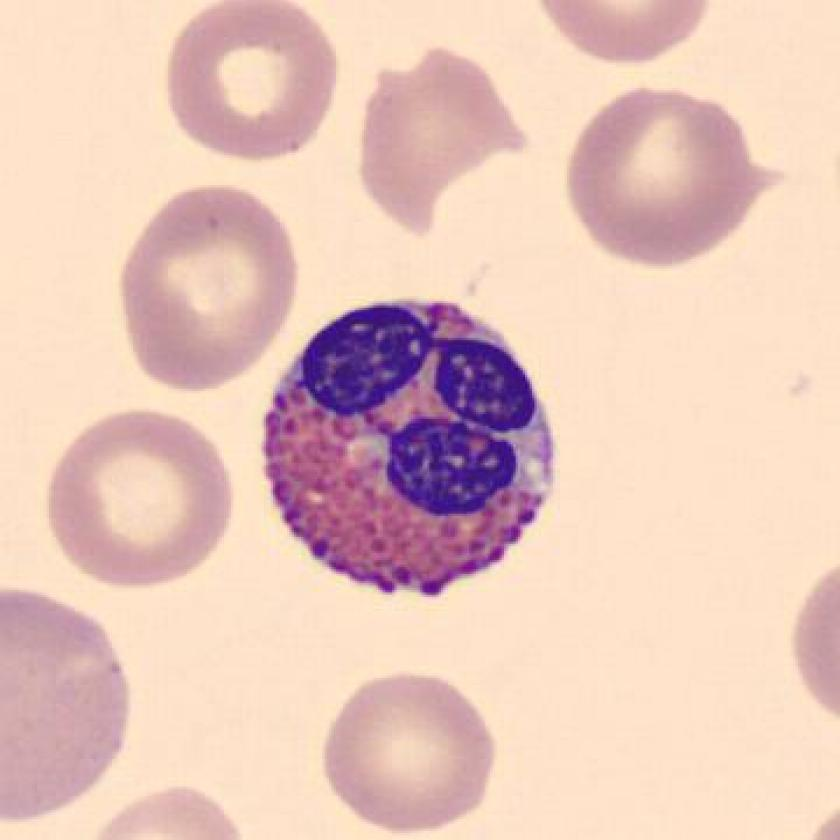eosinophil: (246, 283, 573, 612)
